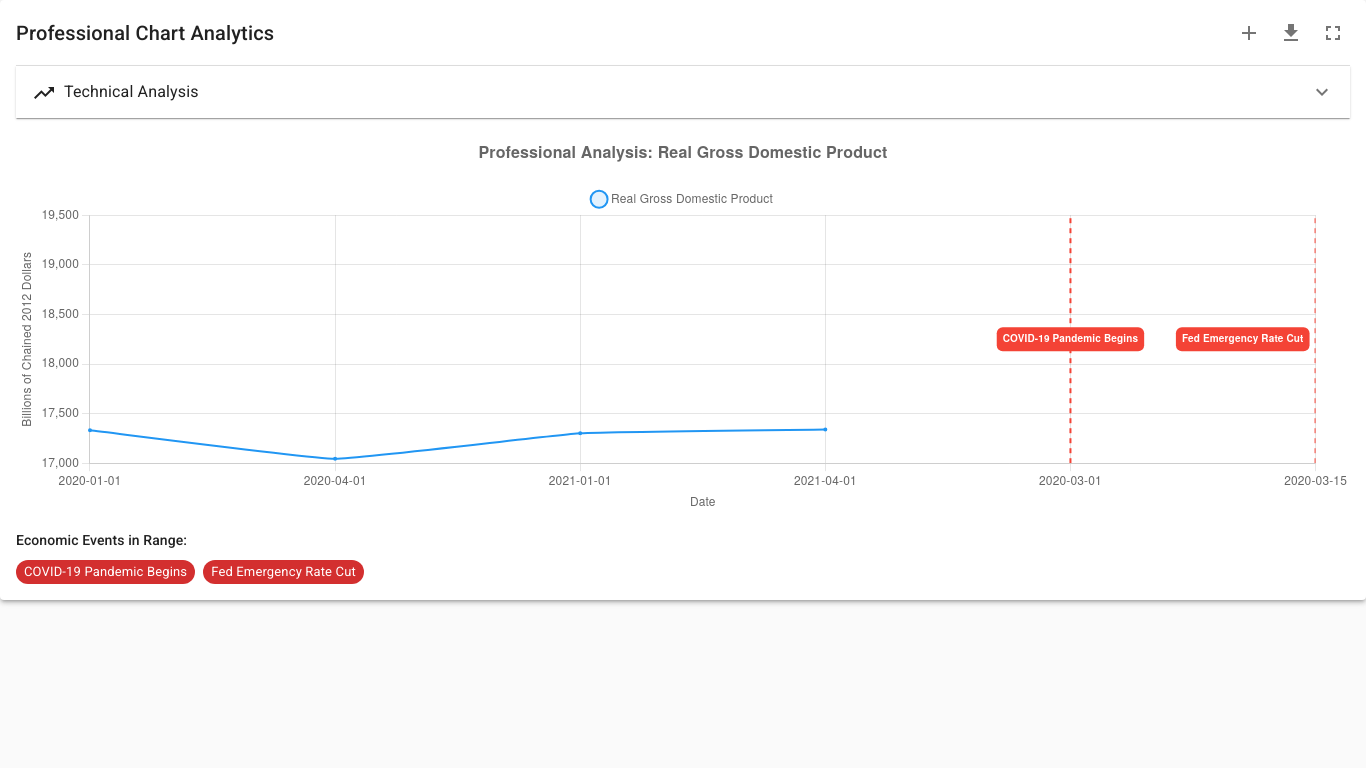
Test: ProfessionalChart › Economic Events › shows economic events when enabled
// Expand accordion to access economic events toggle
Click the button "Technical Analysis" at [131, 92], box left=32, top=80, right=1334, bottom=105
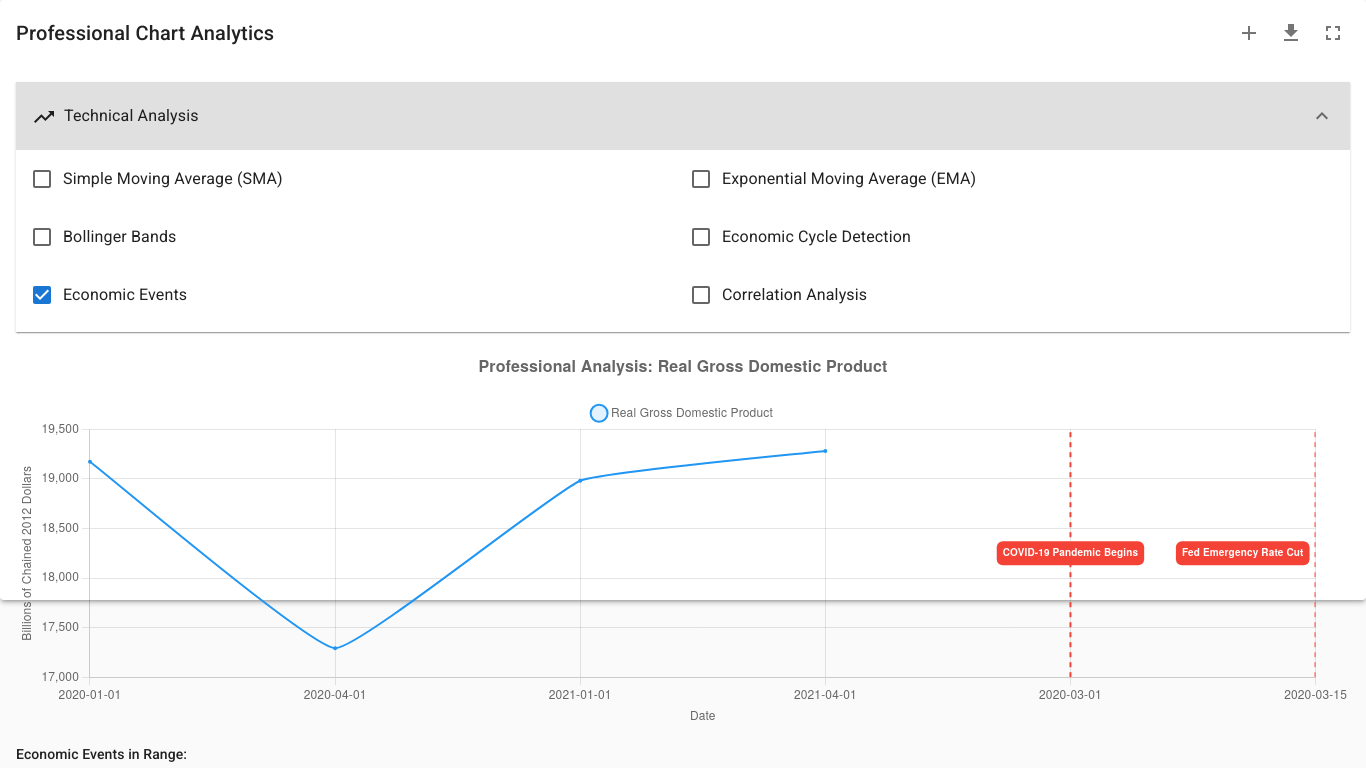
Check: the checkbox labelled "Economic Events" is shown, box left=30, top=283, right=187, bottom=307
